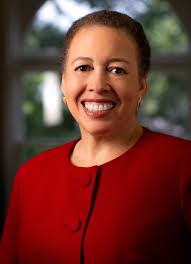person: (59, 9, 150, 137)
